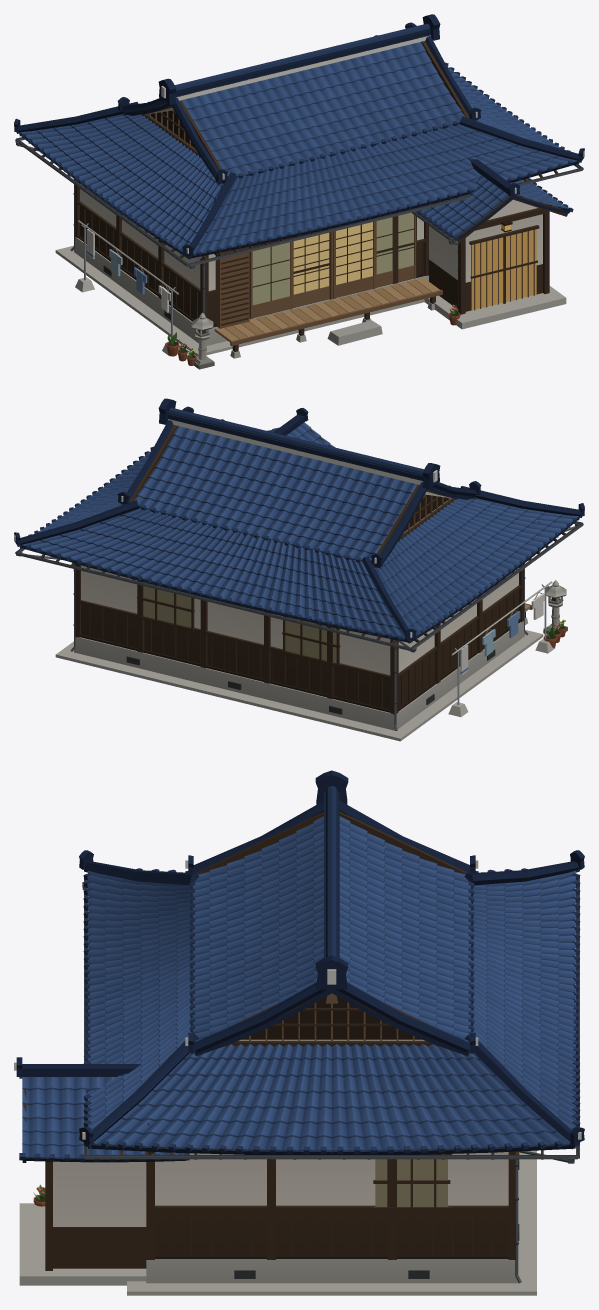
File: minka_navy.glb
3 views of the same model, one above another, from view 1: azimuth 30°, elevation 25°; view 2: azimuth 150°, elevation 25°; view 3: azimuth 270°, elevation 25° (orthographic). The views are drawn at different scales.
Visible parts, largest first — view 1: minka_navy; view 2: minka_navy; view 3: minka_navy.
Part boxes in pixels (x1=…): minka_navy: x1=14, y1=14, x2=584, y2=369; minka_navy: x1=14, y1=398, x2=584, y2=741; minka_navy: x1=14, y1=770, x2=584, y2=1295.
Size of the model in its own units: 11.97 by 6.12 by 10.24.
